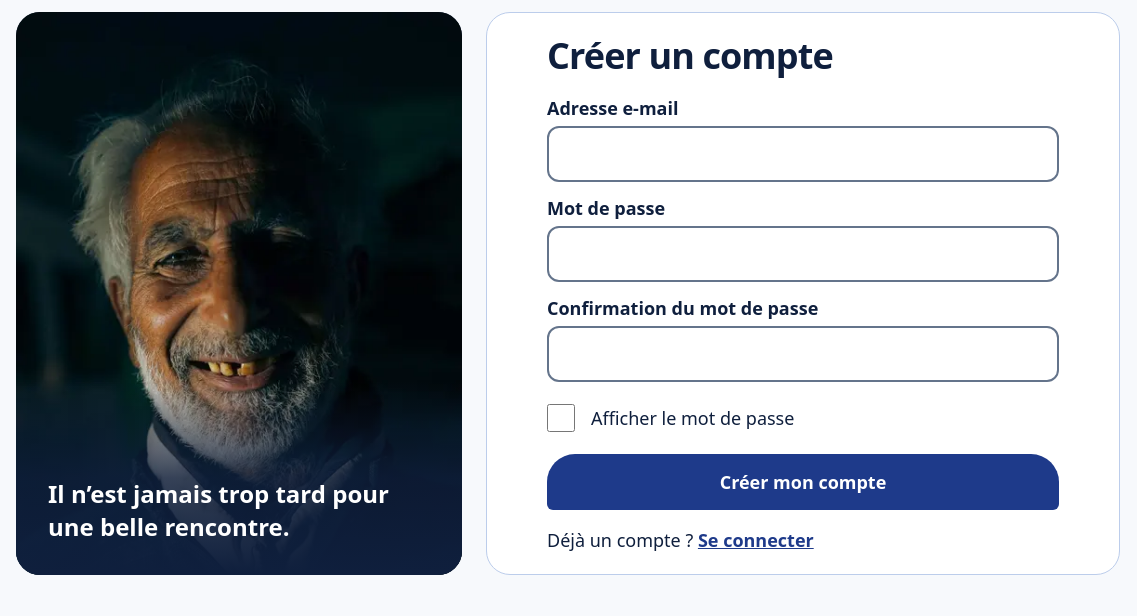
Test: RegisterView › refuse deux mots de passe différents
Type "a@b.fr" into the field with id "email" at (803, 154), box [547, 126, 1059, 182]
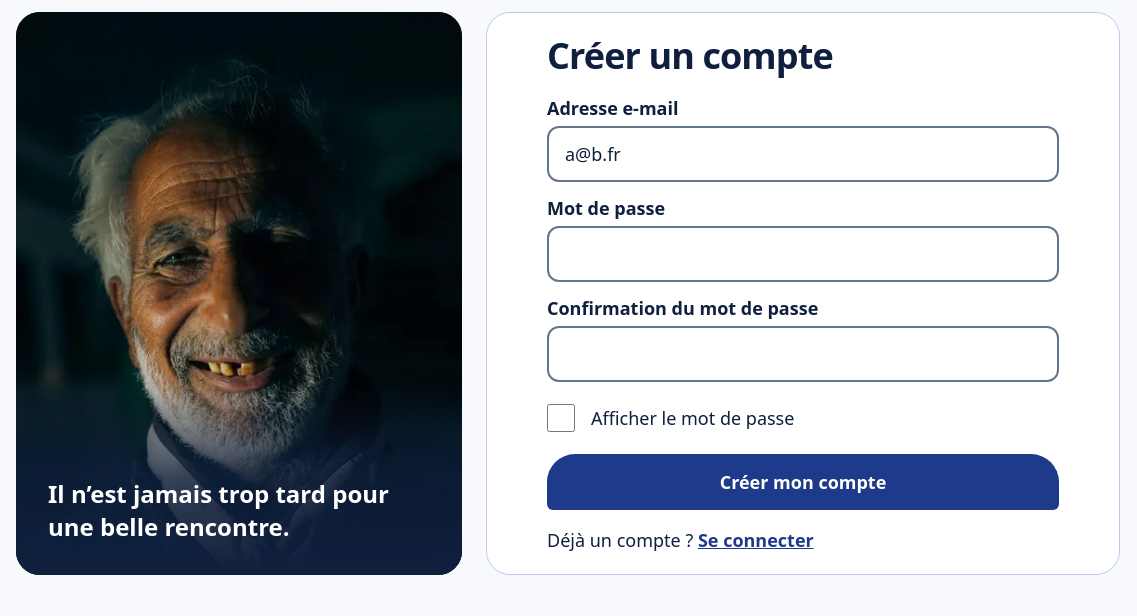
Type "a-long-password" into the password field labelled "Mot de passe" at (803, 254), box [547, 226, 1059, 282]
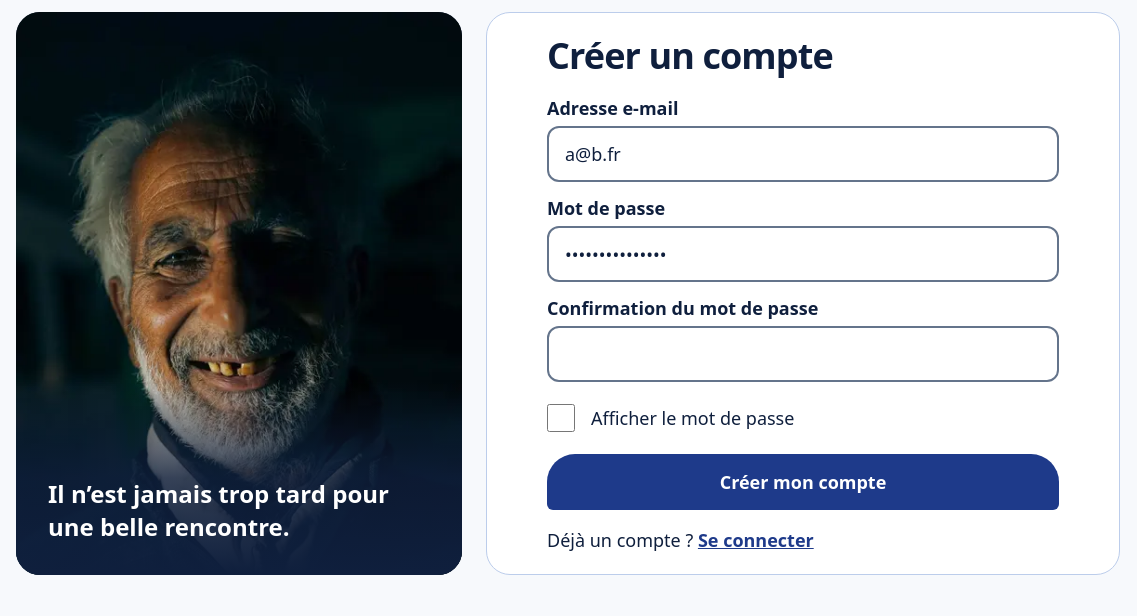
Type "autre-mot-de-passe" into the password field with id "confirm-password" at (803, 354), box [547, 326, 1059, 382]
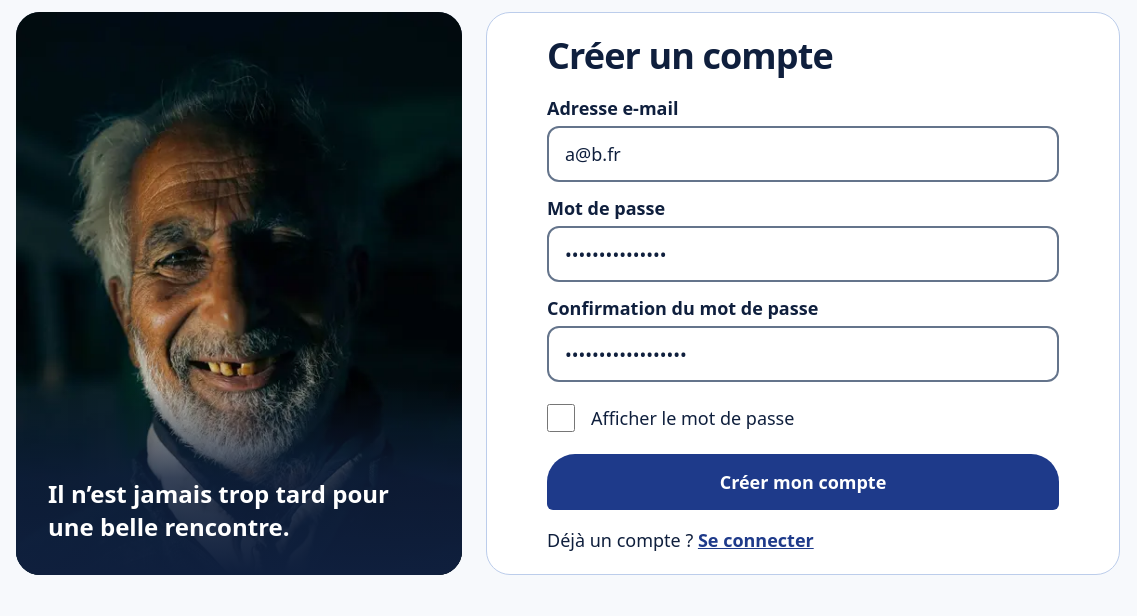
Submit the form, box [547, 94, 1059, 510]
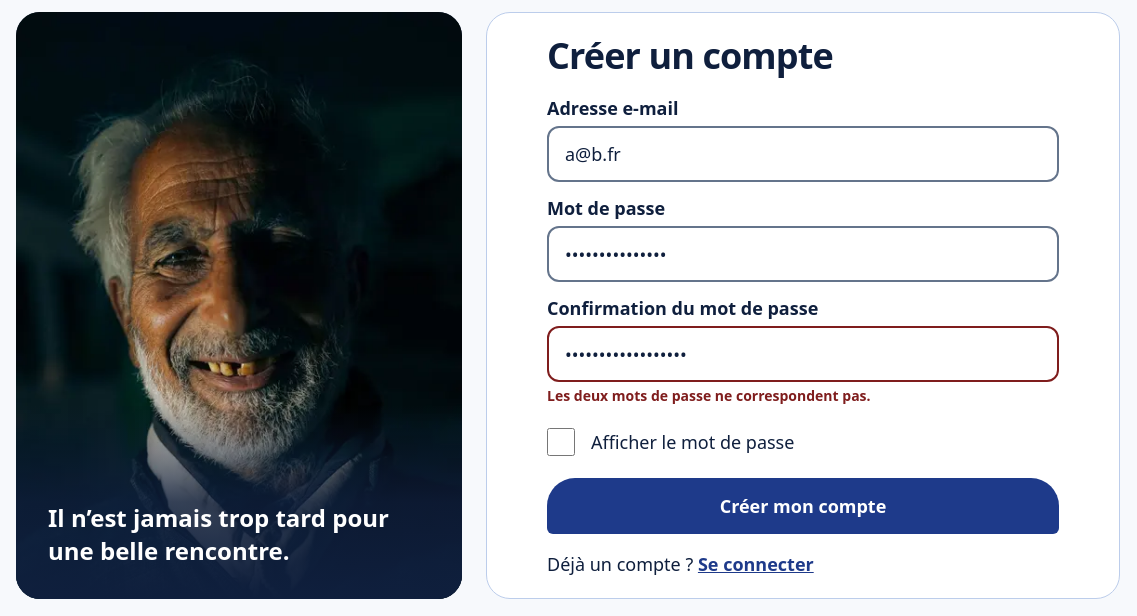
Result: the text "Les deux mots de passe ne correspondent pas." is shown at [547, 386, 870, 405]
